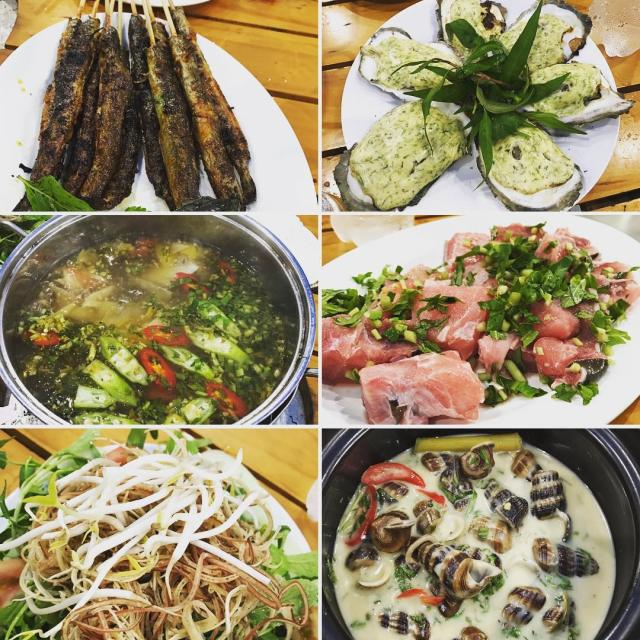ca nuong: (15, 5, 258, 214)
ca song: (323, 221, 640, 423)
hau nuong pho mai: (327, 4, 612, 213)
lau hai san: (0, 228, 302, 423)
oc len xao dua: (330, 439, 636, 640)
rau lau: (0, 446, 303, 640)
